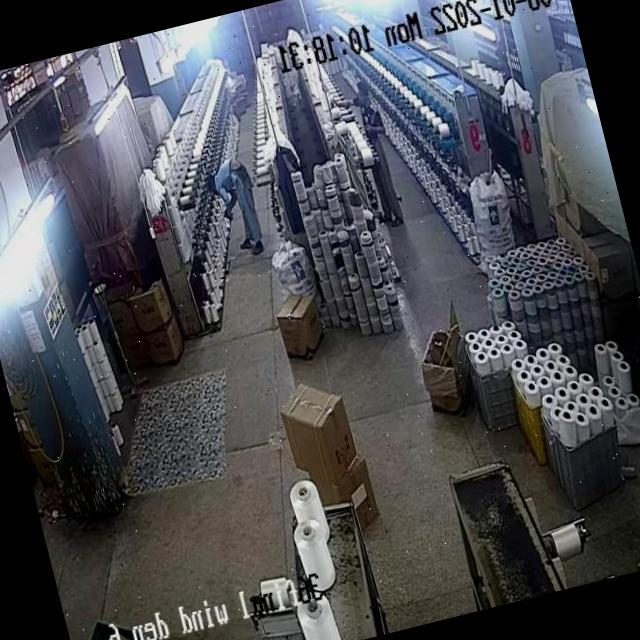person: (353, 82, 408, 225), (210, 155, 268, 249)
